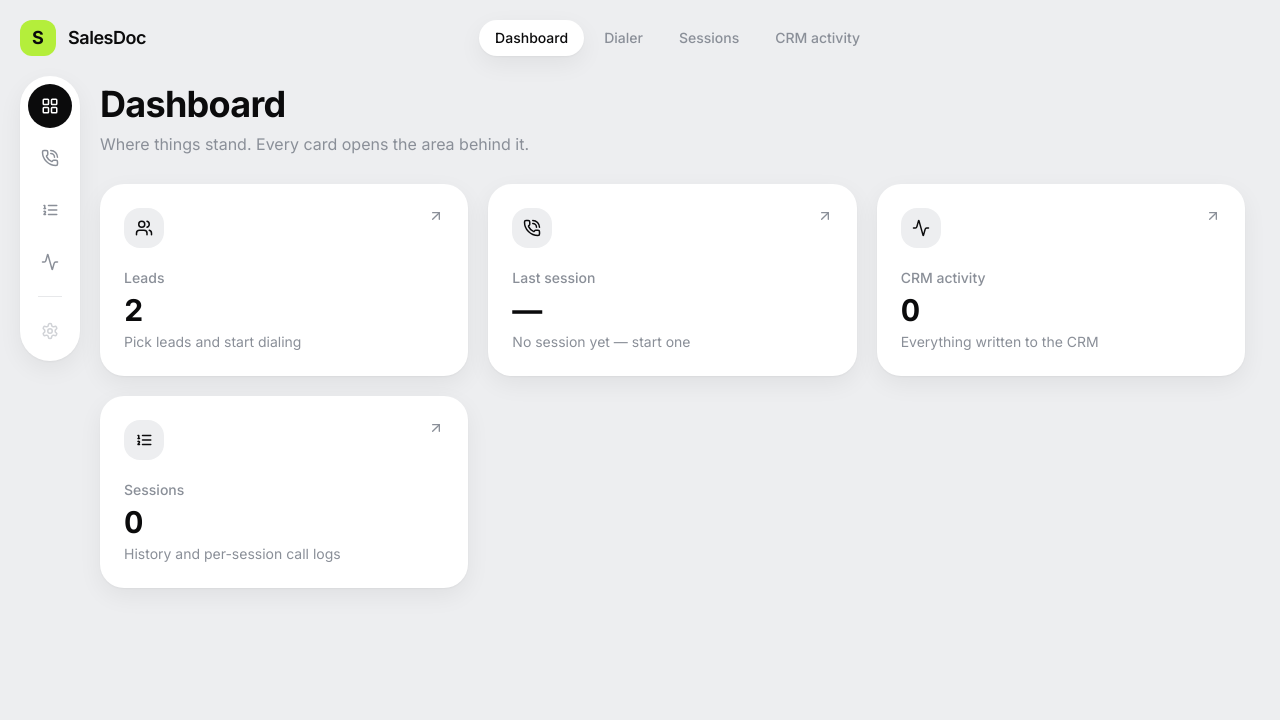
Test case: page transitions › renders the destination after navigating, not a blank frame
expect the heading "Dashboard" is shown: met, box [100,82,286,126]
Click the link "CRM activity" at (818, 38), box [775,29,860,46]
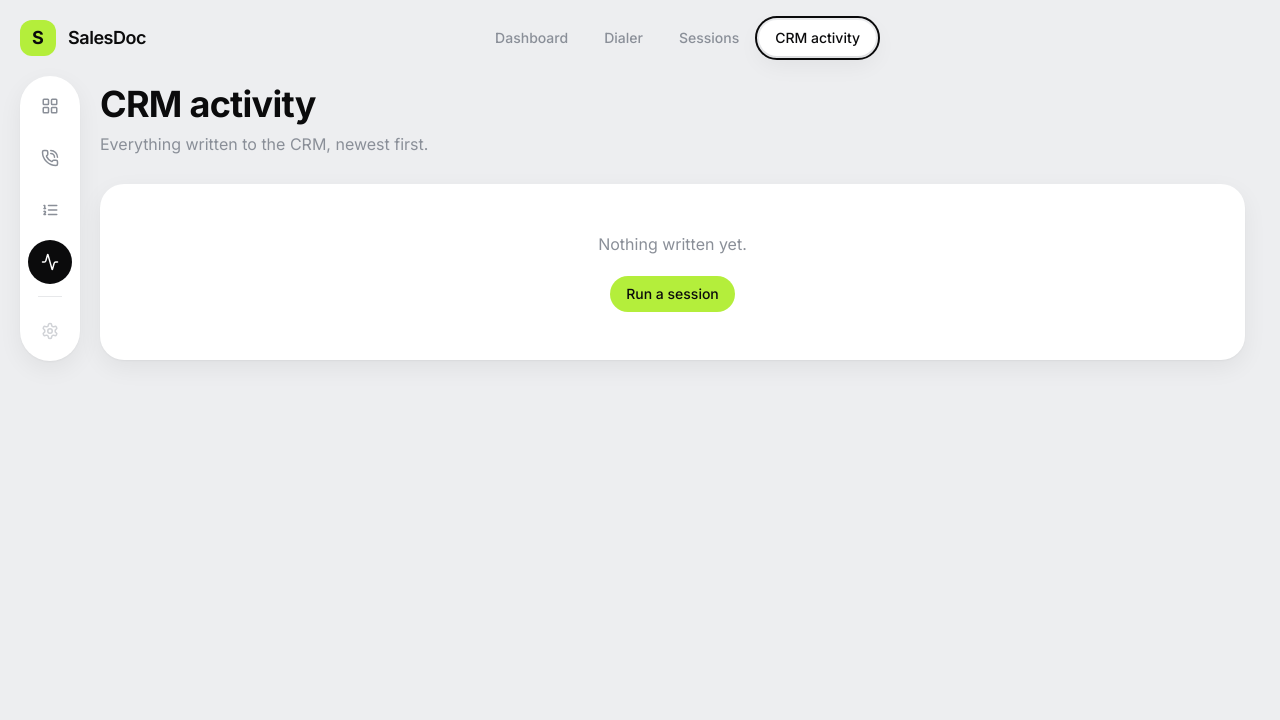
expect the text "Everything written to the CRM, newest first." is shown: met, box [100,132,428,156]
